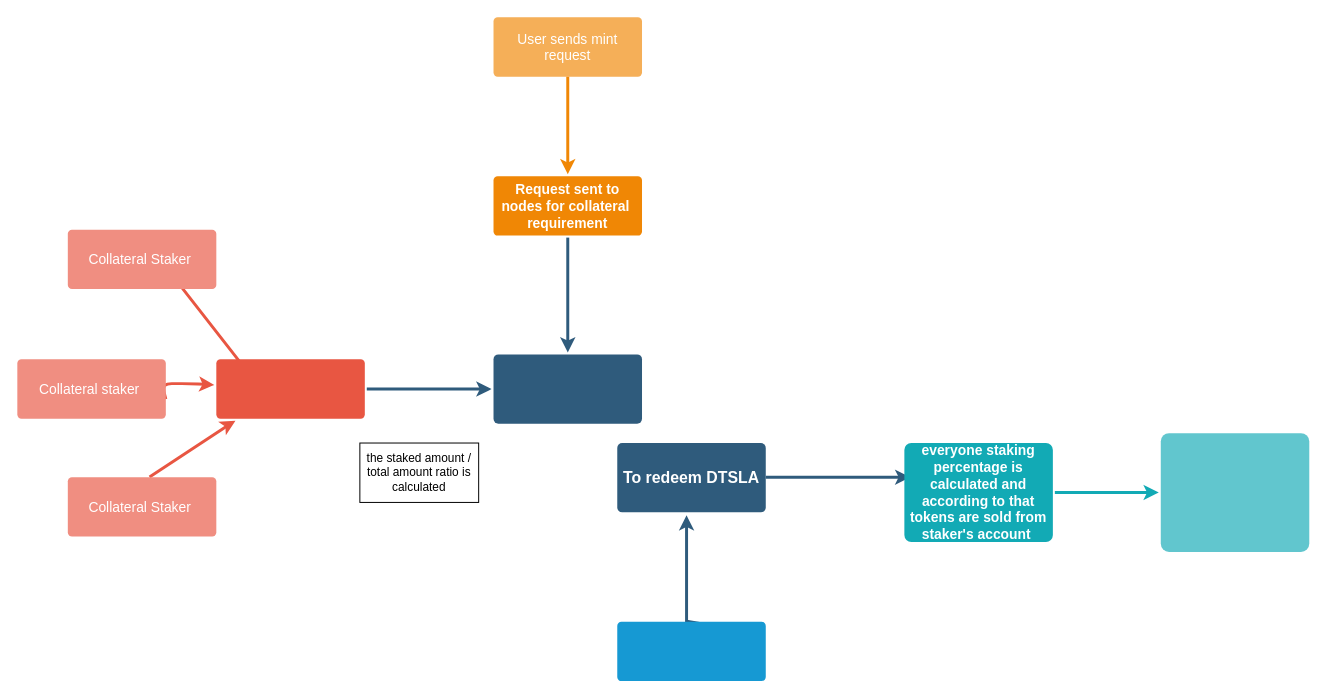
The diagram is 1326 pixels wide and 698 high, and some of its shapes have lost their labels. Each missing label, with the box of its shape:
If all is satisfied new DTSLA is minted: (493, 354, 642, 423)
if not the amount in account TSLA tokens are slashed and redistributed: (1160, 433, 1309, 551)
total stake amount is calculated: (216, 359, 364, 418)
user sends a request: (617, 621, 765, 681)
